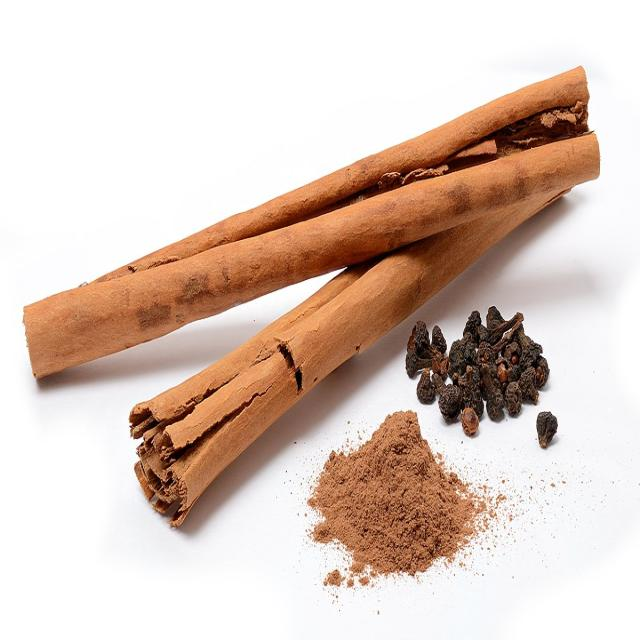Cinnamon: (16, 57, 615, 538)
